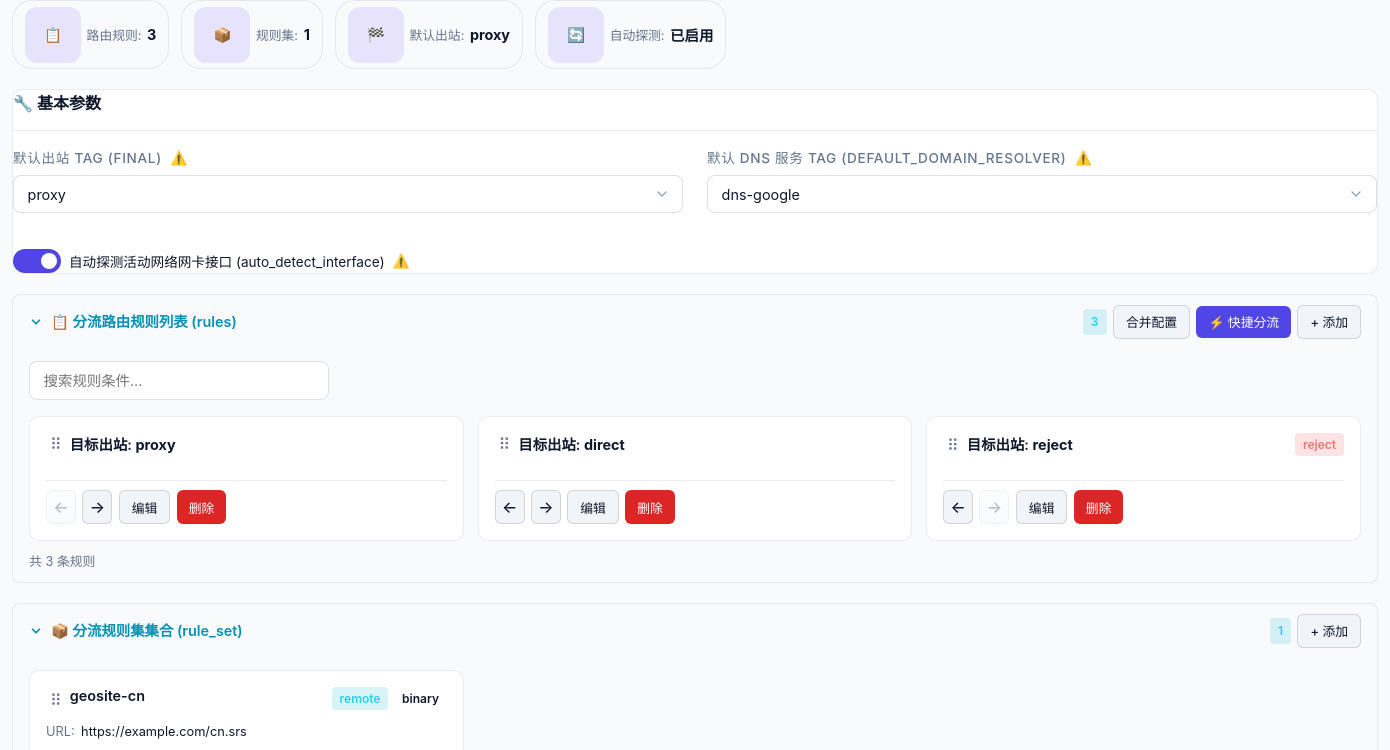
Scenario: RouteEditor › Search filter › shows no-match state when filter yields empty
The width and height of the screenshot is (1390, 750).
Step 1. Type "ZZZZNOEXIST" into the field with placeholder "搜索规则条件..." → (179, 380), box [29,361,329,400]
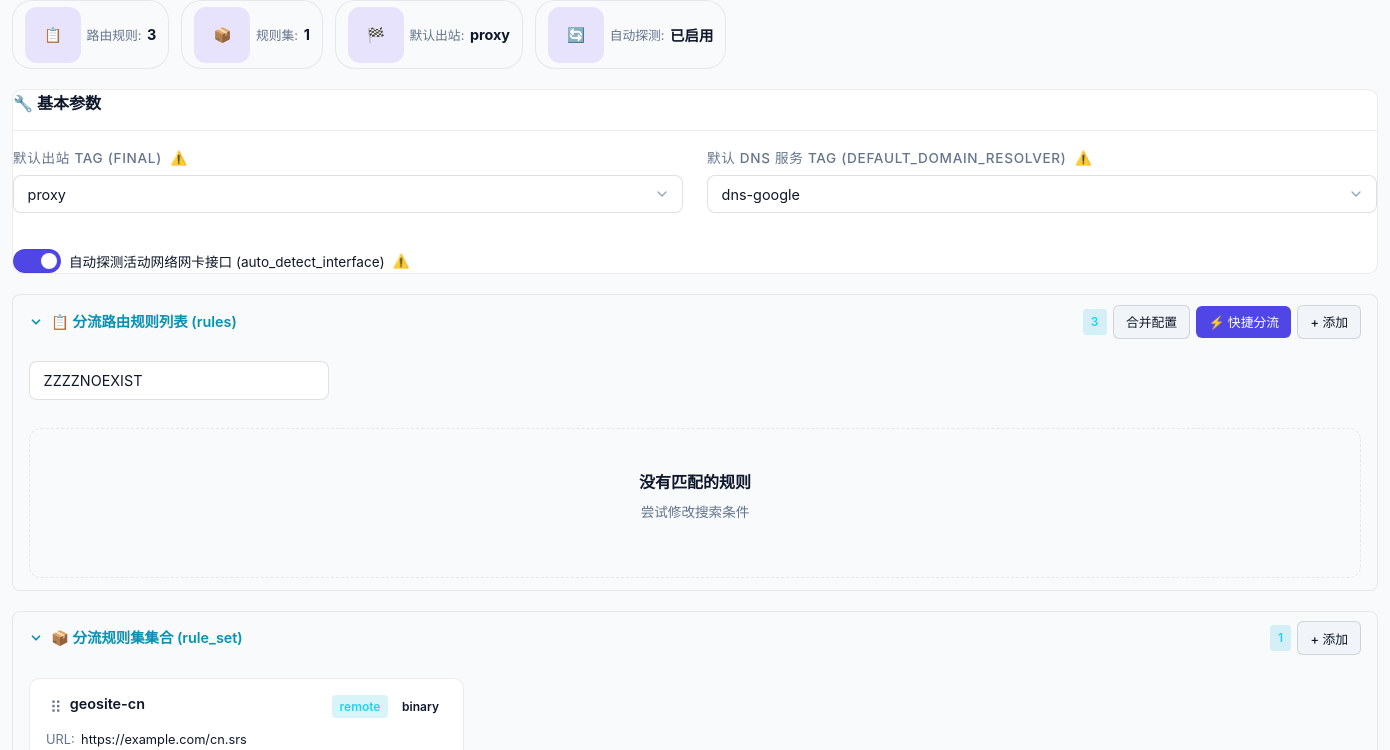
Result: the text "没有匹配的规则" is shown at [639,472,751,492]
